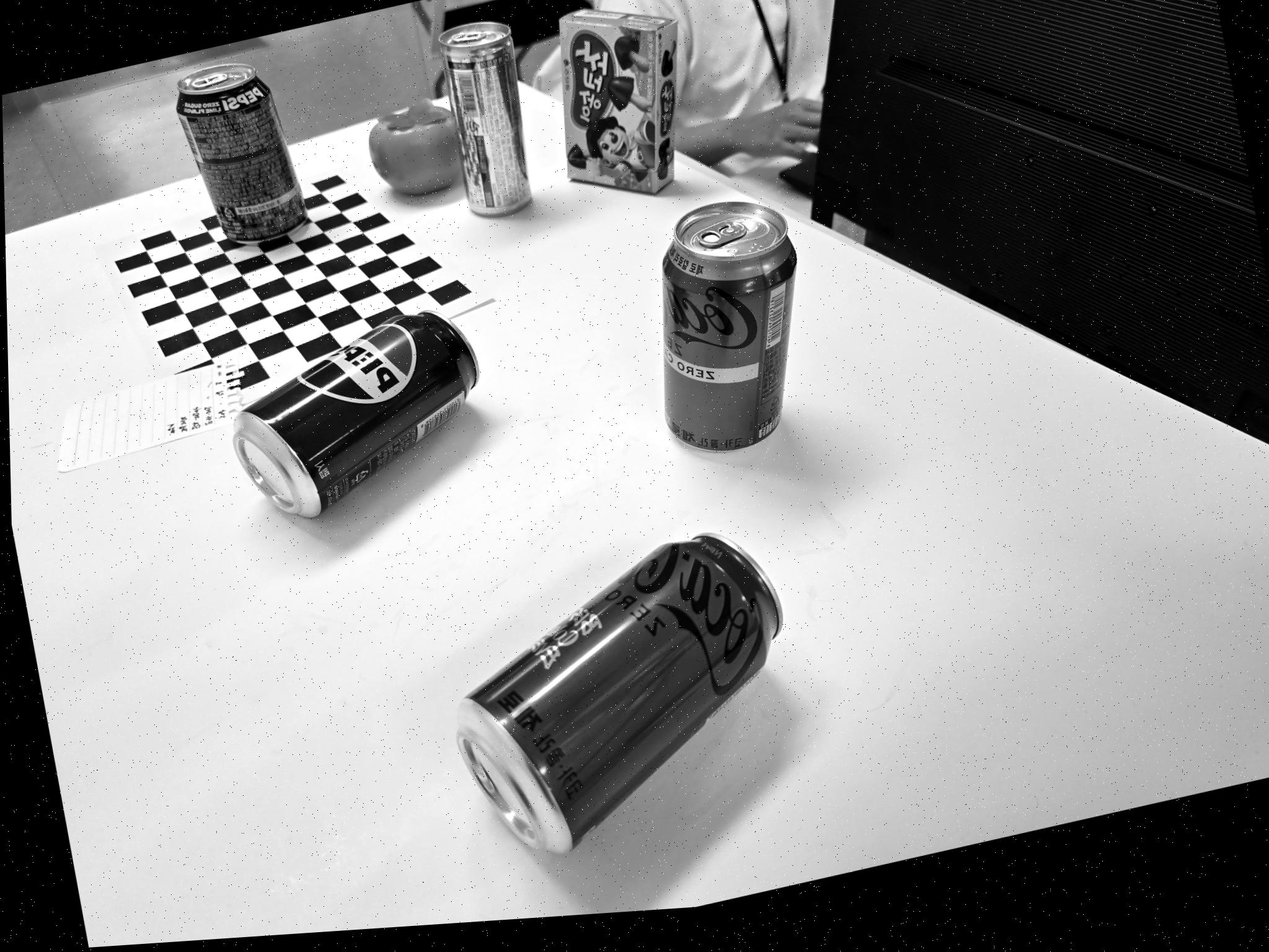can_coke_decaf: (659, 200, 800, 456)
can_coke_zero: (453, 530, 779, 854)
can_pepsi: (234, 306, 479, 519)
